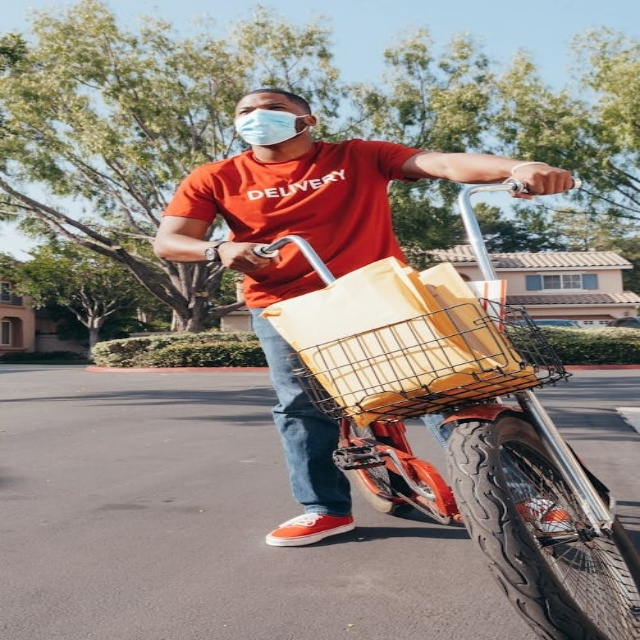Mascara: (234, 108, 308, 145)
Sin_gafas: (230, 100, 293, 114)
Sin_guantes: (504, 161, 577, 201), (213, 240, 277, 273)
